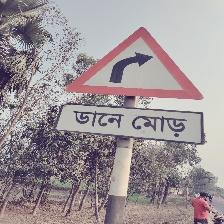Right-turn: (60, 28, 206, 144)
